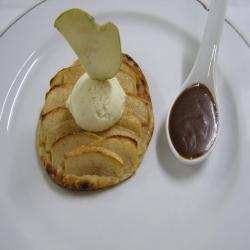apple_pie: (31, 43, 160, 199)
icecream: (61, 62, 135, 137)
